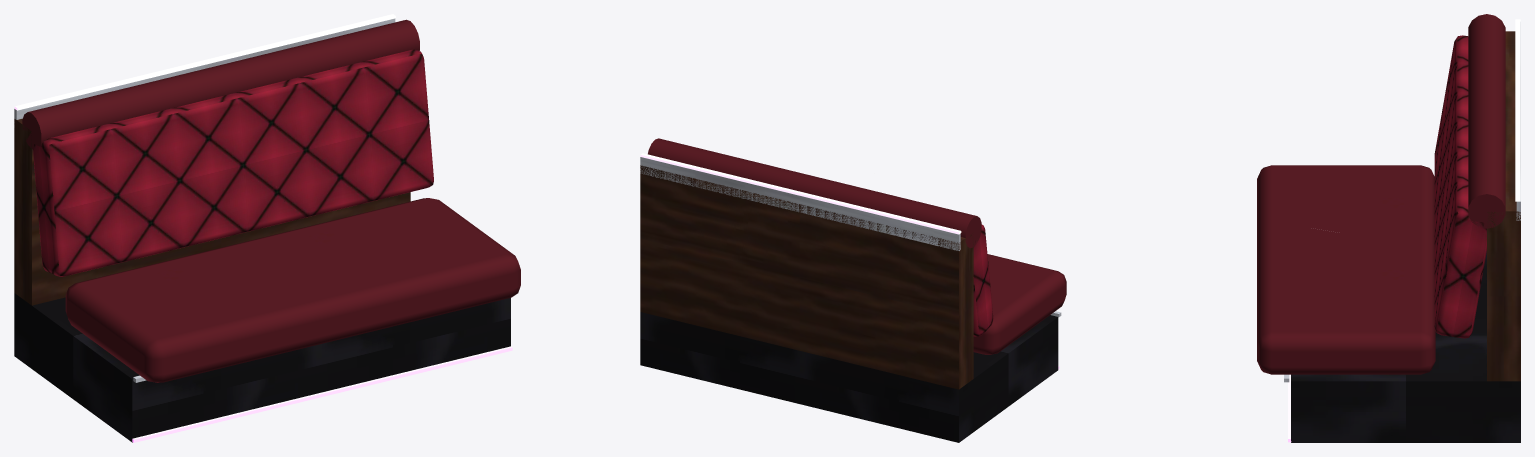
File: prop_boothSofa.glb
The picture shows the model from 3 angles, left to right: view 1: azimuth 30°, elevation 25°; view 2: azimuth 150°, elevation 25°; view 3: azimuth 270°, elevation 25°; orthographic projection. The views are drawn at different scales.
Parts seen in each view (by area): view 1: prop; view 2: prop; view 3: prop.
Boxes of the visible parts, x1,y1,x2,y2 form: prop: (14,14,520,442); prop: (640,138,1066,442); prop: (1257,14,1520,442).
Bounding box in the file's own units: 1 × 0.65 × 1.
Materials: 8 (5 with a texture image).
